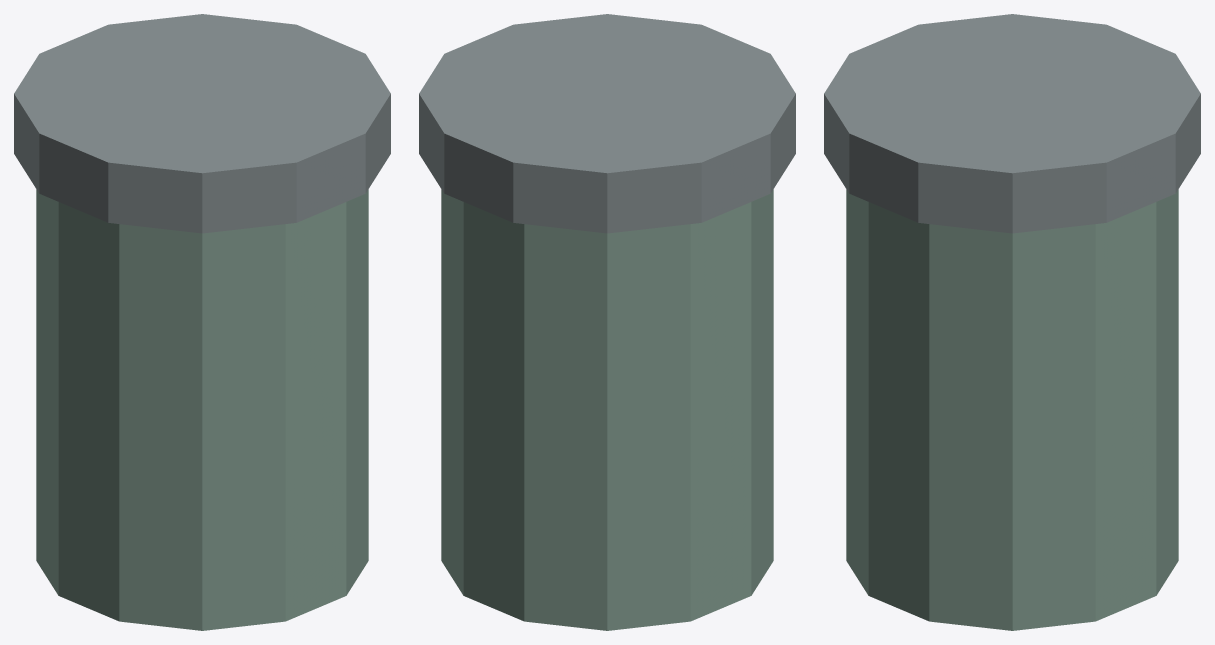
Rendered from PRP_STREET_001_trash_bin.glb.
The picture shows the model from 3 angles, left to right: view 1: azimuth 30°, elevation 25°; view 2: azimuth 150°, elevation 25°; view 3: azimuth 270°, elevation 25°; orthographic projection.
Visible parts, largest first — view 1: Part_09, Part_12, Part_06, Part_15, Part_03, Part_18, Part_45, Part_48, Part_42, Part_51, Part_40, Part_55 (+12 smaller); view 2: Part_21, Part_24, Part_18, Part_27, Part_15, Part_30, Part_57, Part_60, Part_54, Part_63, Part_52, Part_67 (+12 smaller); view 3: Part_00, Part_33, Part_03, Part_30, Part_06, Part_27, Part_36, Part_69, Part_39, Part_66, Part_43, Part_64 (+12 smaller).
Boxes of the visible parts, x1=… form: Part_09: x1=202, y1=224, x2=285, y2=630; Part_12: x1=119, y1=224, x2=202, y2=630; Part_06: x1=285, y1=202, x2=346, y2=621; Part_15: x1=58, y1=202, x2=119, y2=621; Part_03: x1=346, y1=189, x2=368, y2=595; Part_18: x1=36, y1=189, x2=58, y2=595; Part_45: x1=202, y1=162, x2=296, y2=233; Part_48: x1=108, y1=162, x2=202, y2=233; Part_42: x1=296, y1=133, x2=365, y2=222; Part_51: x1=39, y1=133, x2=108, y2=222; Part_40: x1=203, y1=93, x2=390, y2=133; Part_55: x1=14, y1=93, x2=201, y2=133; Part_21: x1=607, y1=224, x2=690, y2=630; Part_24: x1=524, y1=224, x2=607, y2=630; Part_18: x1=690, y1=202, x2=751, y2=621; Part_27: x1=463, y1=202, x2=524, y2=621; Part_15: x1=751, y1=189, x2=773, y2=595; Part_30: x1=441, y1=189, x2=463, y2=595; Part_57: x1=607, y1=162, x2=701, y2=233; Part_60: x1=513, y1=162, x2=607, y2=233; Part_54: x1=701, y1=133, x2=770, y2=222; Part_63: x1=444, y1=133, x2=513, y2=222; Part_52: x1=608, y1=93, x2=795, y2=133; Part_67: x1=419, y1=93, x2=606, y2=133; Part_00: x1=929, y1=224, x2=1012, y2=630; Part_33: x1=1012, y1=224, x2=1095, y2=630; Part_03: x1=868, y1=202, x2=929, y2=621; Part_30: x1=1095, y1=202, x2=1156, y2=621; Part_06: x1=846, y1=189, x2=868, y2=595; Part_27: x1=1156, y1=189, x2=1178, y2=595; Part_36: x1=918, y1=162, x2=1012, y2=233; Part_69: x1=1012, y1=162, x2=1106, y2=233; Part_39: x1=849, y1=133, x2=918, y2=222; Part_66: x1=1106, y1=133, x2=1175, y2=222; Part_43: x1=824, y1=93, x2=1011, y2=133; Part_64: x1=1013, y1=93, x2=1200, y2=133.
Bounding box in the file's own units: 0.68 × 0.93 × 0.68.
